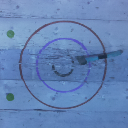Axe Tip: (75, 57, 86, 59)
